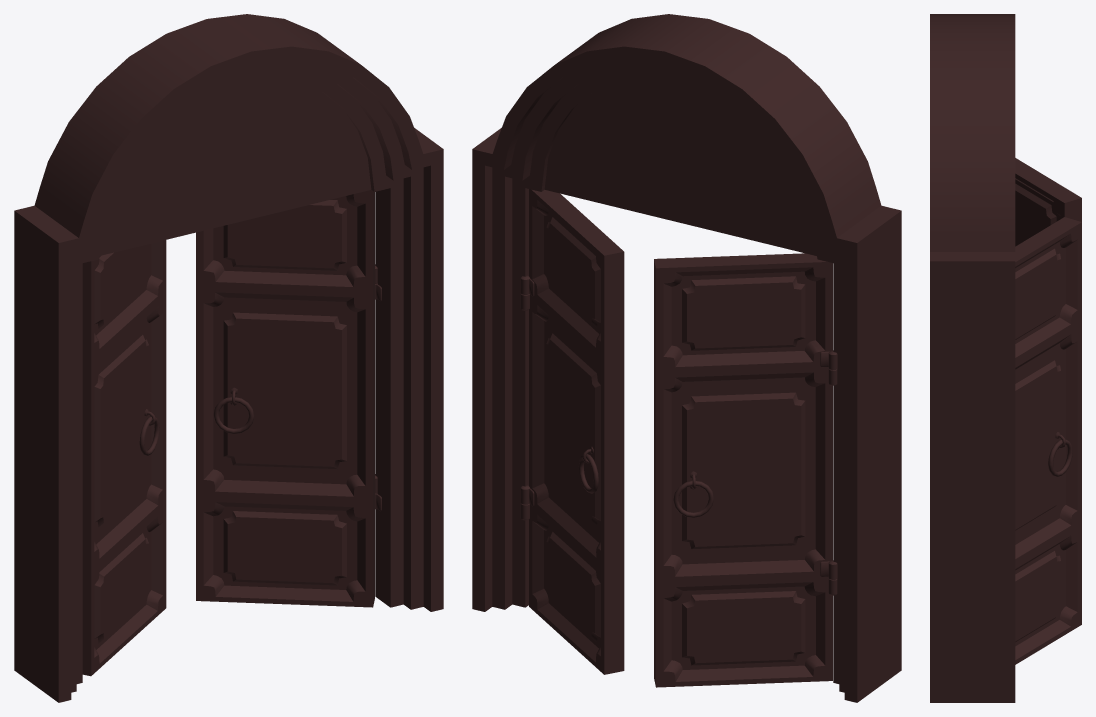
Rendered from Fin.fbx.
3 renders of one model, left to right at view 1: azimuth 30°, elevation 25°; view 2: azimuth 150°, elevation 25°; view 3: azimuth 270°, elevation 25°, orthographic. The views are drawn at different scales.
Parts seen in each view (by area): view 1: box, Door1, Door2; view 2: box, Door2, Door1; view 3: box, Door1, Door2.
Boxes of the visible parts, x1,y1,x2,y2 form: box: (14,14,443,702); Door1: (196,190,377,607); Door2: (82,240,166,676); box: (472,14,901,702); Door2: (654,253,837,687); Door1: (520,189,624,674); box: (930,14,1015,702); Door1: (1015,217,1081,664); Door2: (1015,158,1081,246).
Size of the model in its own units: 10 by 15.01 by 3.56.
